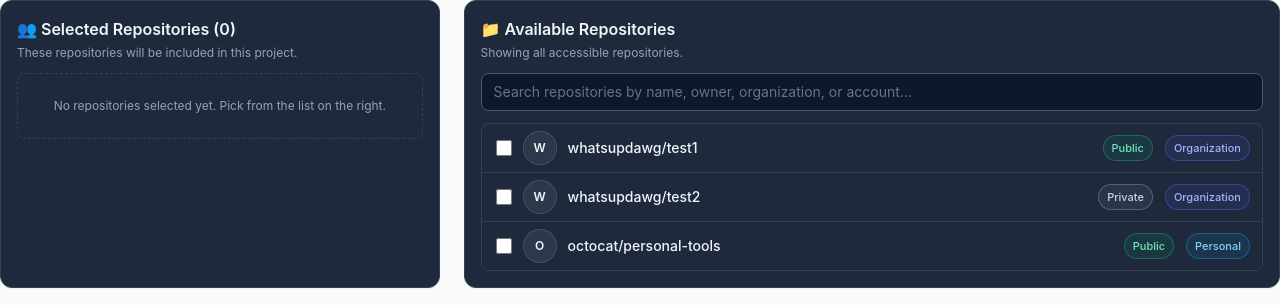
Test case: RepositoryBranchSelector › filters the available list by the search input (name / owner / full_name)
This screenshot has width=1280, height=305.
Type "octocat" into the field with test id "available-search-input" at (872, 92), box [481,73,1263,111]
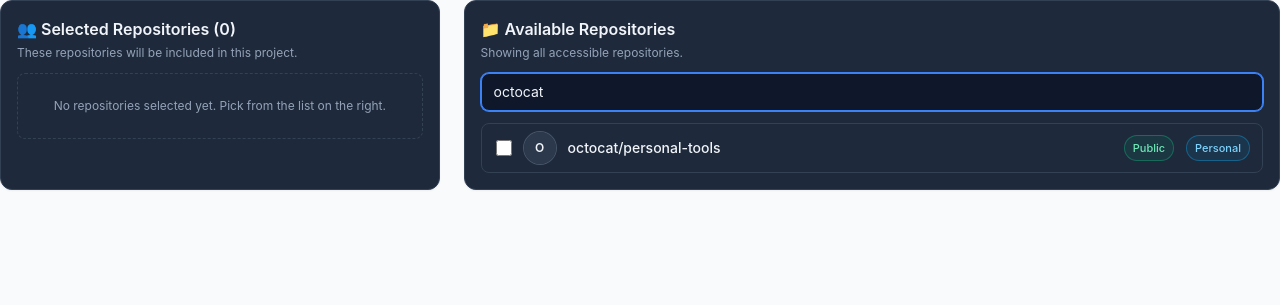
Expected: the text "O octocat/personal-tools Public Personal" is shown, [482,124,1262,172]
Expected: the label with test id "available-repo-whatsupdawg/test1" is gone
